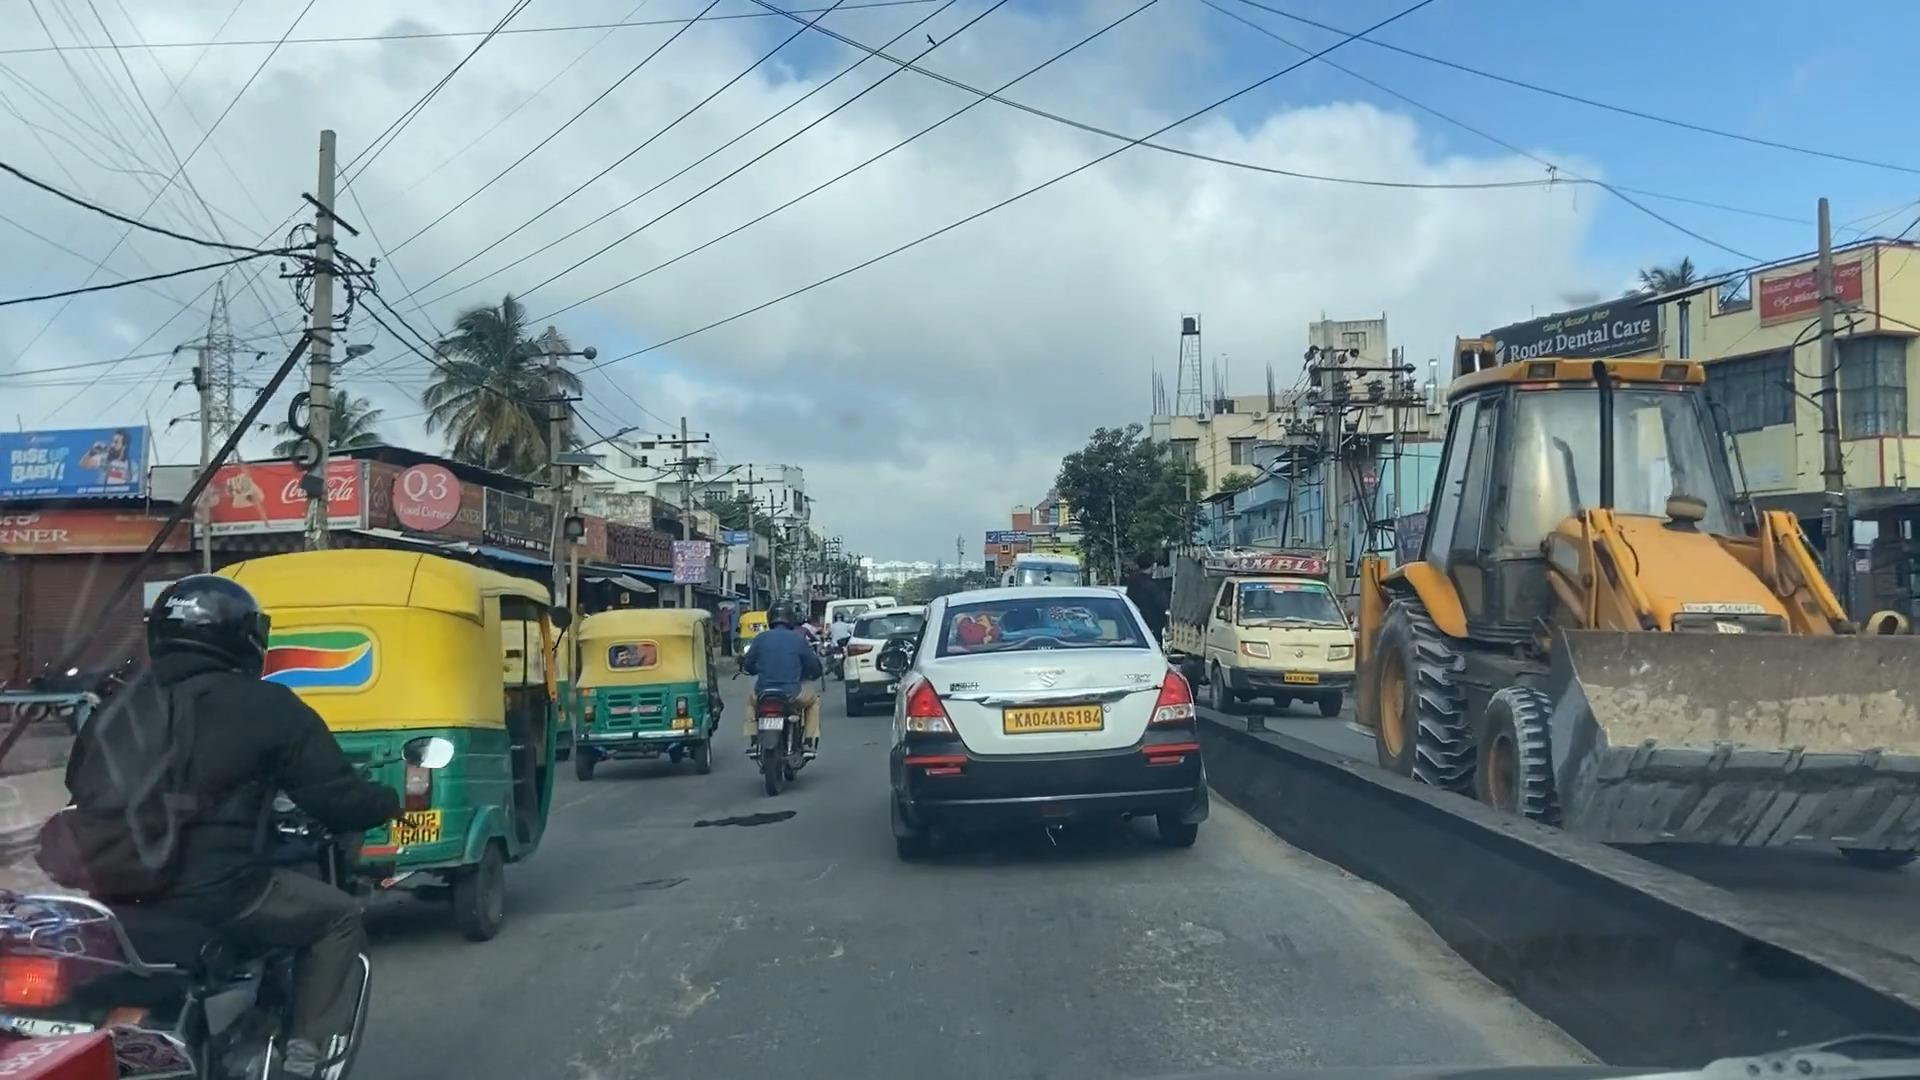LMV: (895, 587, 1220, 847), (570, 615, 721, 762)
RoadDamages: (644, 891, 752, 988), (592, 1000, 707, 1080), (799, 877, 876, 952)
UnsurfacedRoad: (1083, 874, 1316, 1080)
